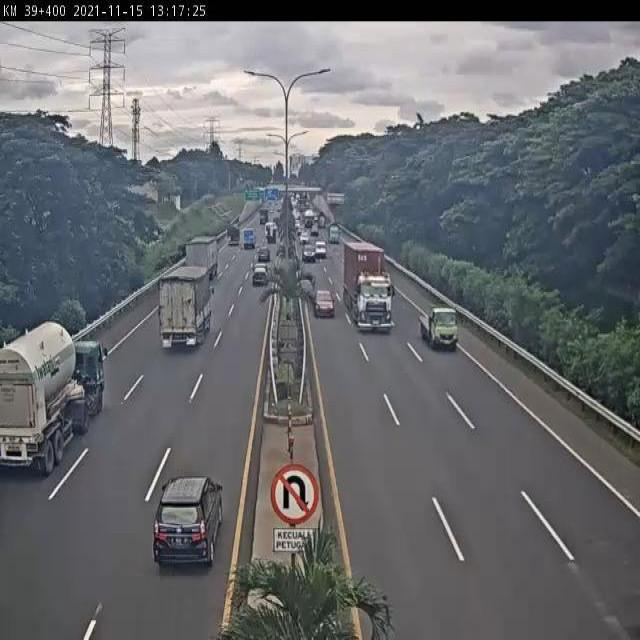big truck: (344, 242, 394, 330)
car: (154, 474, 226, 570), (313, 290, 336, 318), (249, 266, 268, 290)
truck-l-: (6, 324, 112, 475)
truck-m-: (160, 264, 216, 349), (184, 235, 221, 281)
truck-s-: (421, 307, 459, 348)
